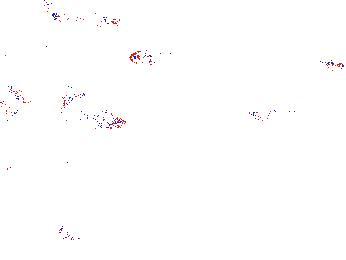X-ray fish: (22, 47, 78, 77), (56, 217, 96, 242), (88, 110, 127, 130)
glassfish: (1, 84, 82, 127)
red belly glassfish: (247, 105, 305, 123), (129, 49, 175, 66), (306, 58, 345, 71)
redtail glassfish: (52, 9, 120, 30)
